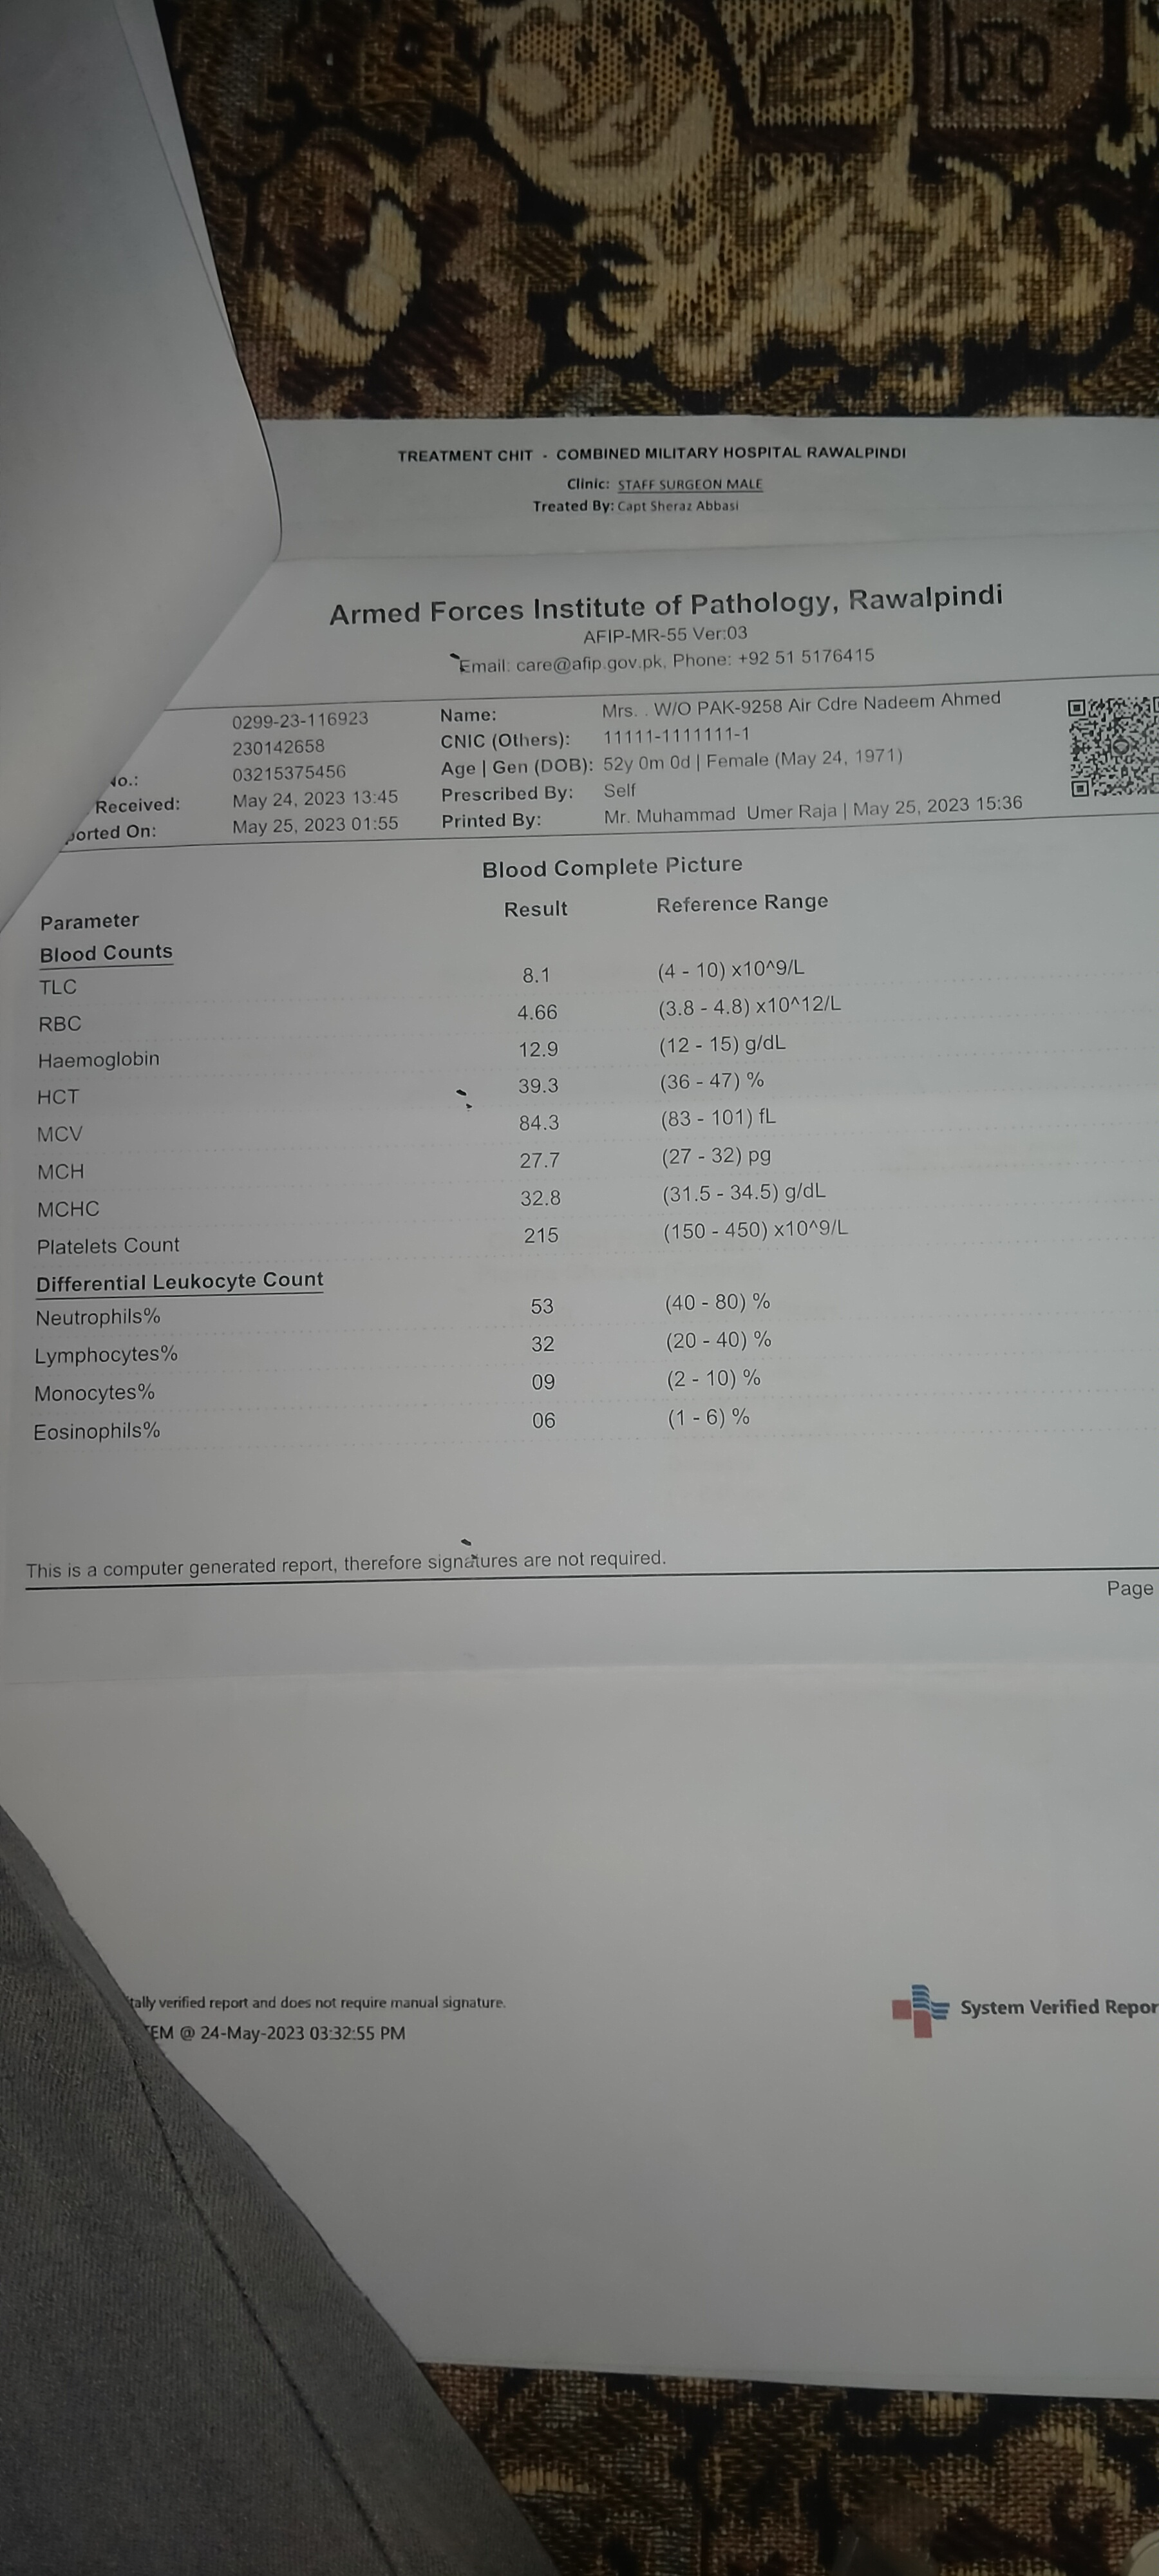report: (25, 854, 1038, 1531)
